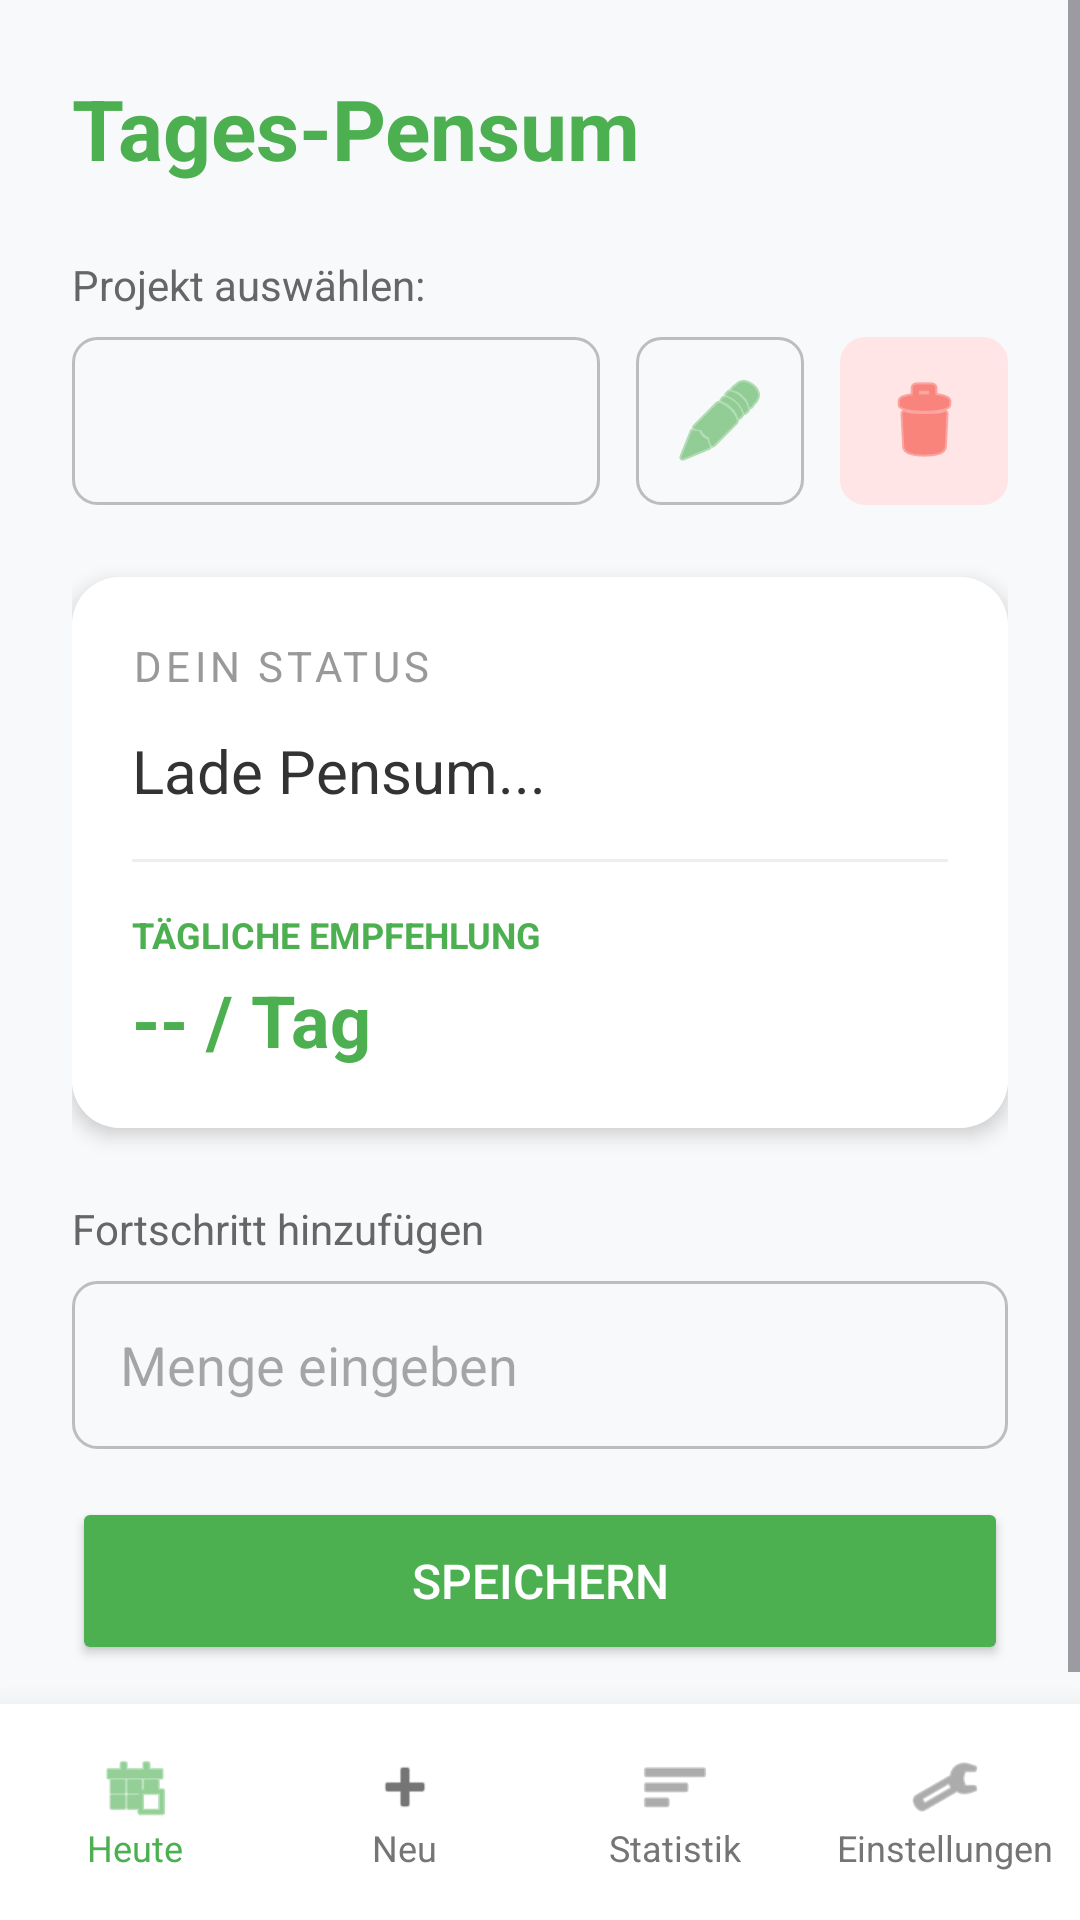

Where icons sit on this 1080px x 1920px app screen, as Rect(x1, y1, x2, y2):
manage: Rect(913, 1762, 977, 1812)
Projekt löschen: Rect(897, 382, 952, 457)
